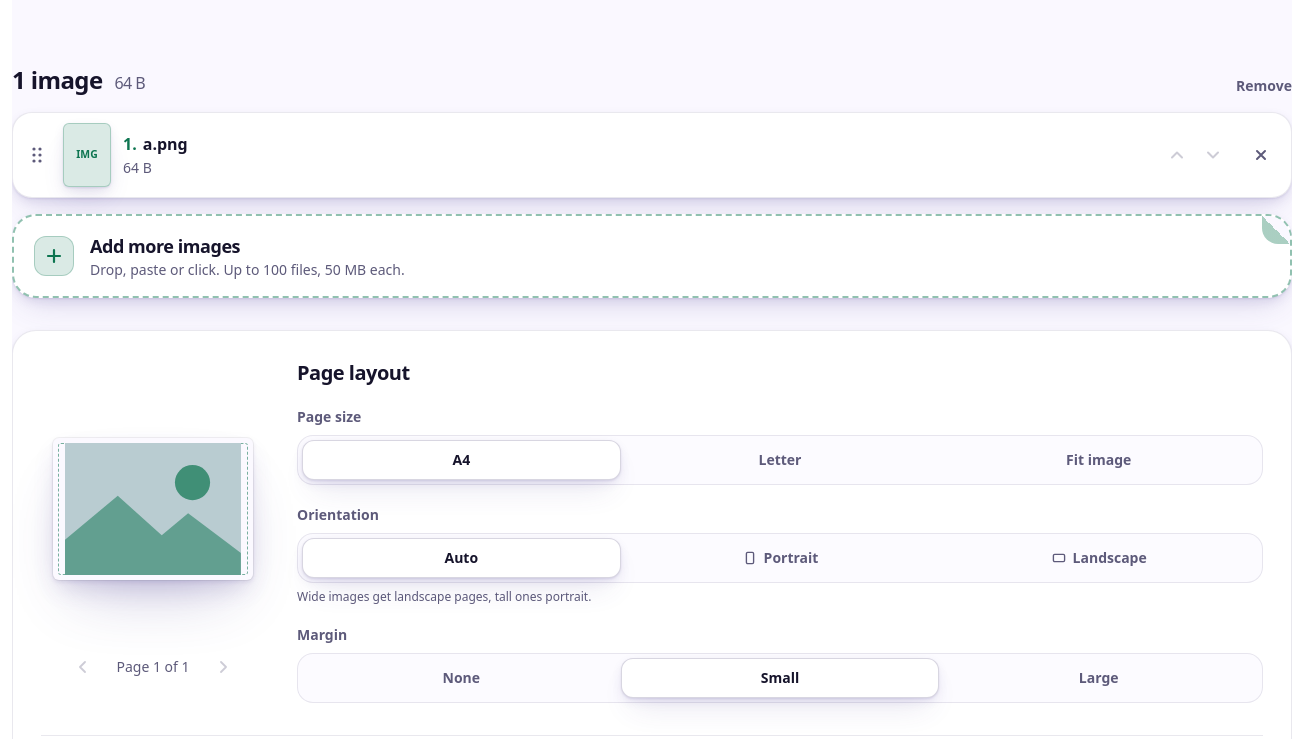
Test: ImagesTool › turns the preview with the orientation and locks it for fit image
Earlier steps of the test are not shown.
Click the radio button labelled "Portrait": [780, 558] box [742,548,818,567]
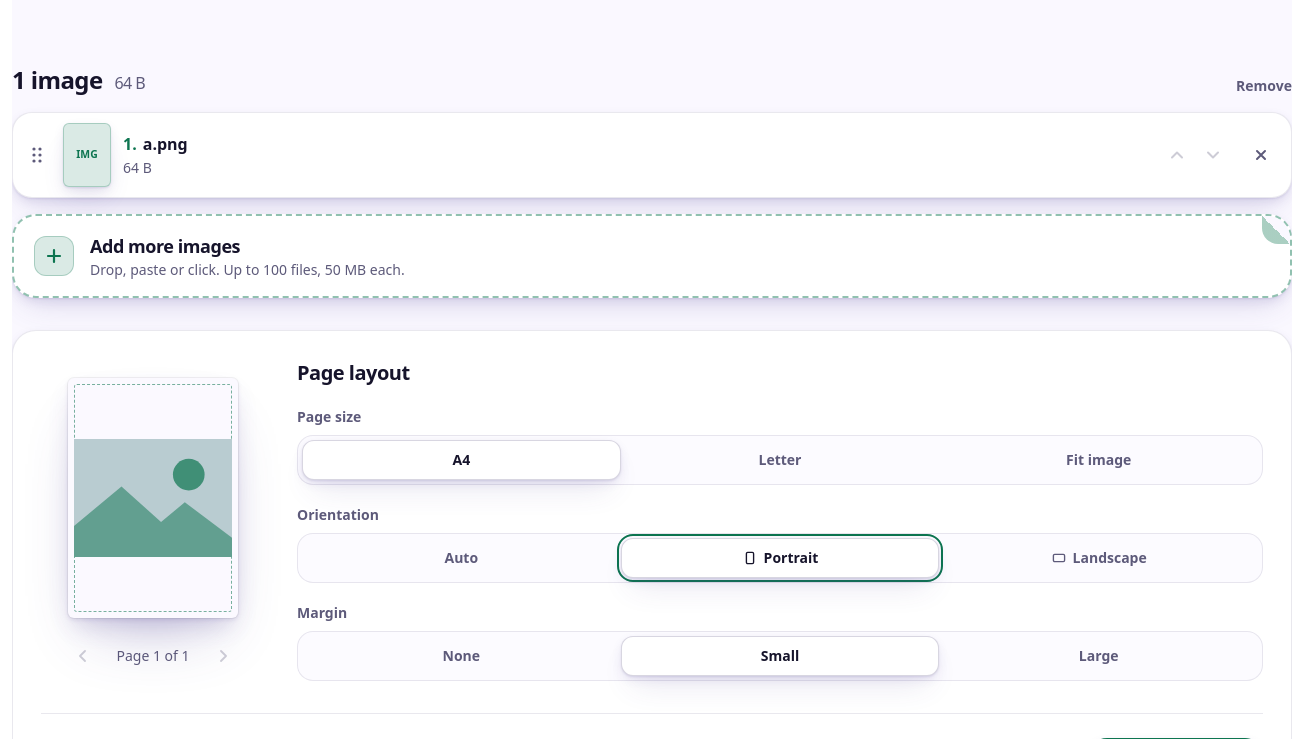
Check: the element with test id "page-preview" has attribute data-orientation="portrait", box [68,378,238,618]
Click the radio button labelled "Fit image": [1099, 460] box [1066,450,1131,469]
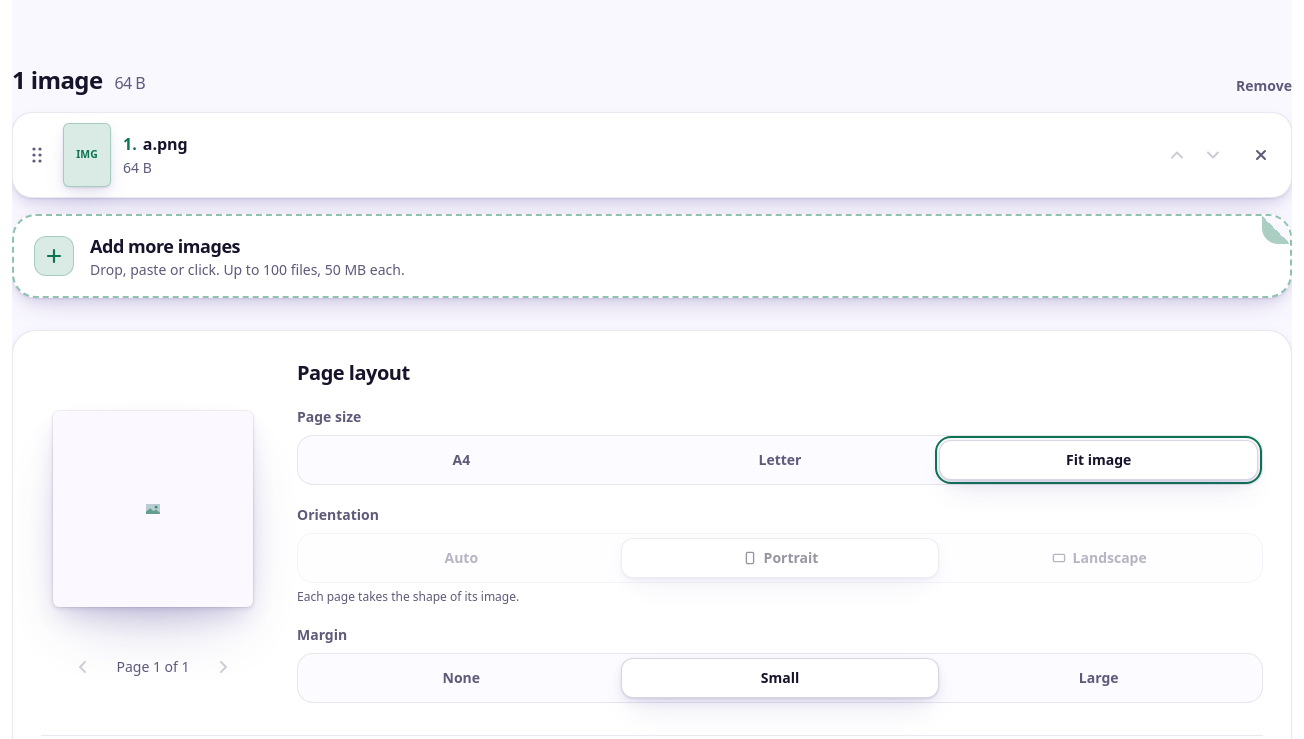
Check: the element "Orientation" is disabled, box [297,505,1263,605]
